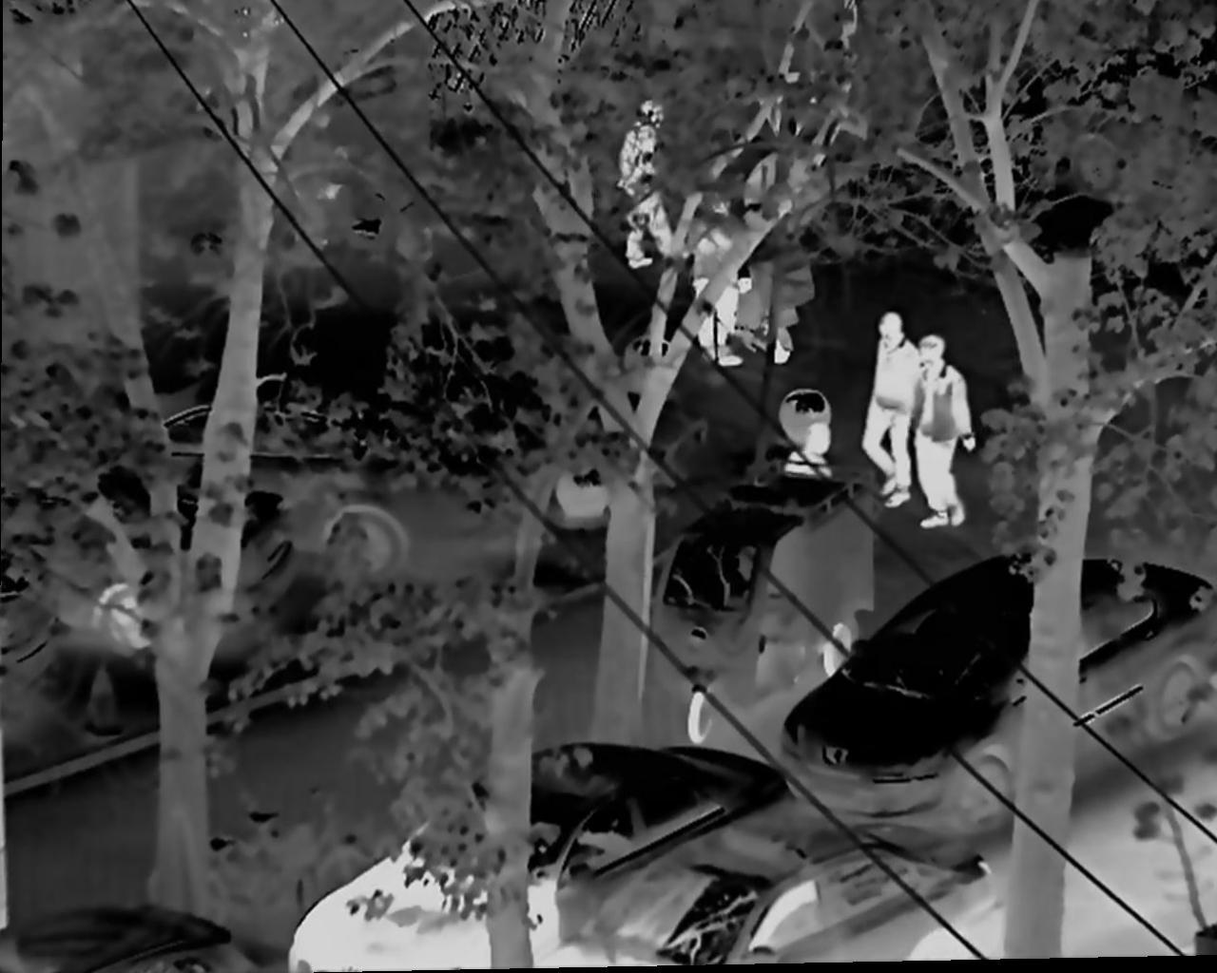person: (909, 334, 989, 533), (613, 80, 681, 275), (858, 299, 920, 506)
